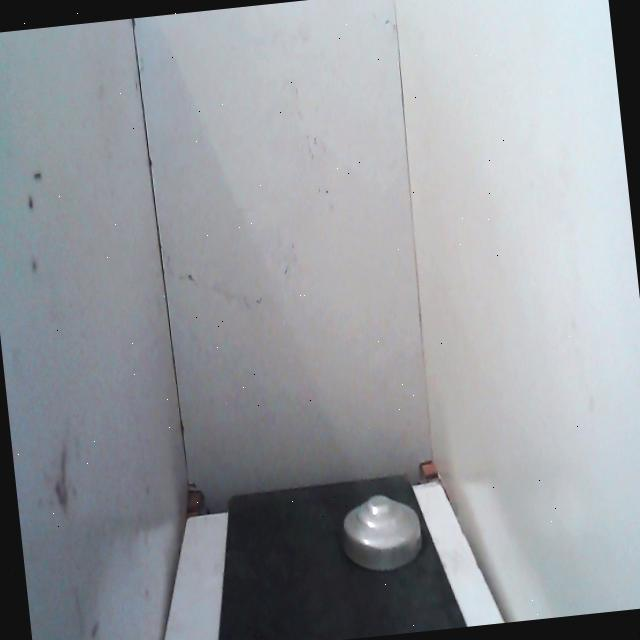metal: (328, 476, 429, 583)
